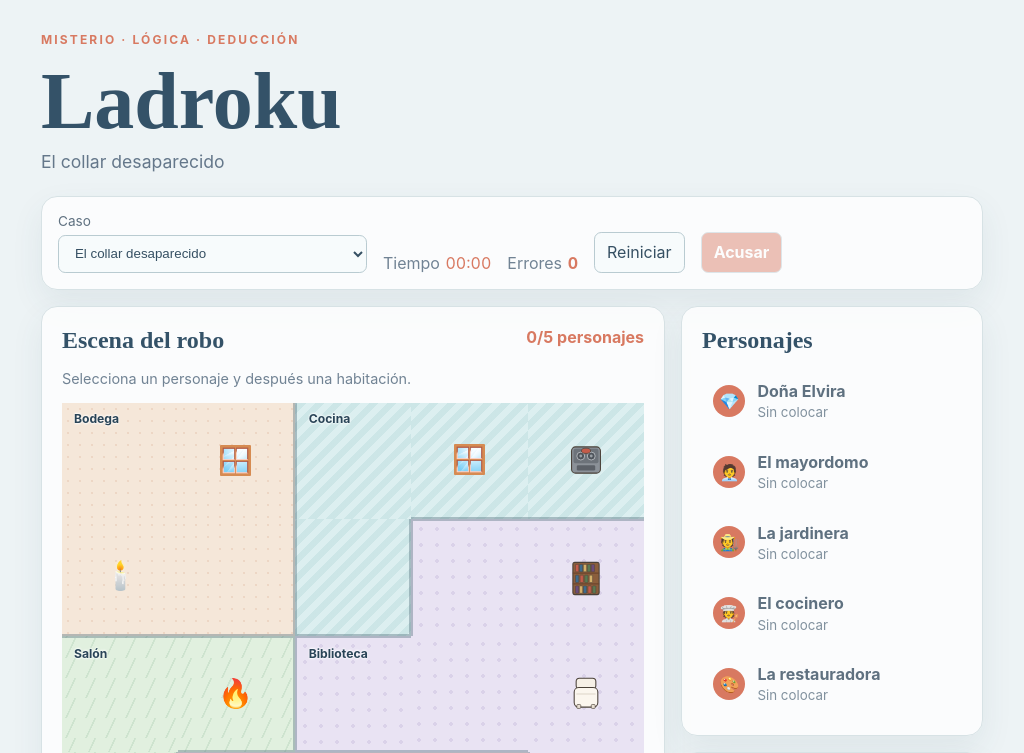
Test: Ladroku game flow › disables cells that share a row or column with a placed character
Click the button "💎 Doña Elvira Sin colocar": x=832, y=401 x1=702 y1=370 x2=962 y2=432
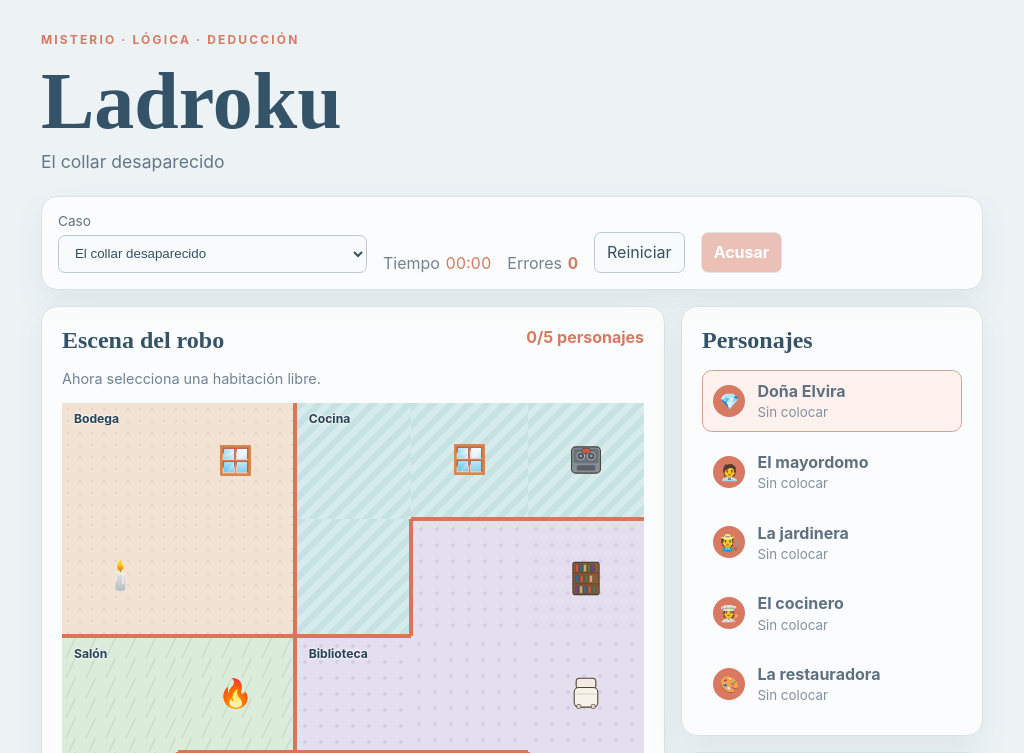
Click the cell "Bodega": x=120, y=461 x1=62 y1=403 x2=178 y2=519
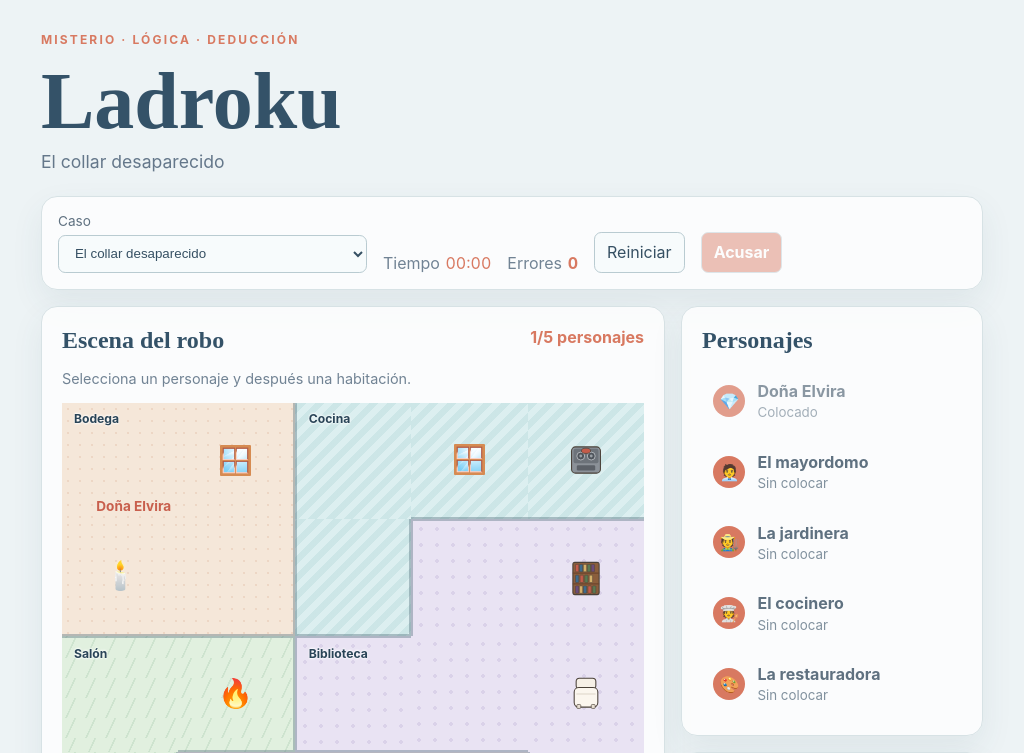
Click the button "🧑‍💼 El mayordomo Sin colocar": x=832, y=472 x1=702 y1=440 x2=962 y2=502
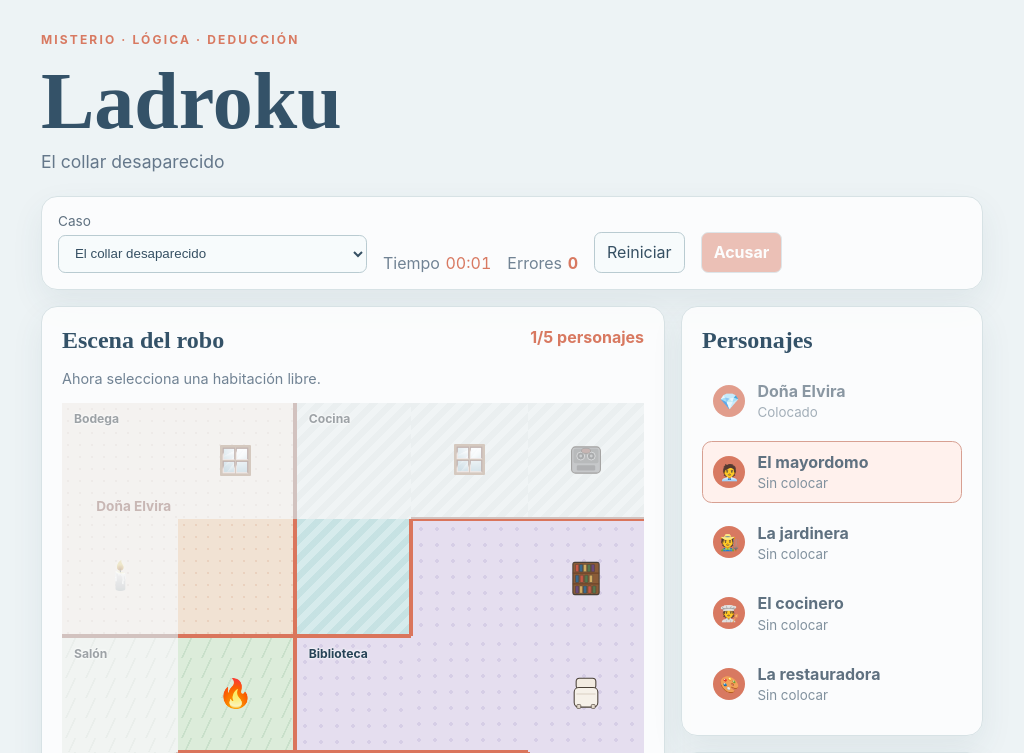
Check: the cell "Bodega Doña Elvira" is disabled, box x1=62 y1=403 x2=178 y2=519
Check: the 1st cell "🪟" is disabled, box x1=178 y1=403 x2=295 y2=519
Check: the cell "🕯️" is disabled, box x1=62 y1=519 x2=178 y2=636
